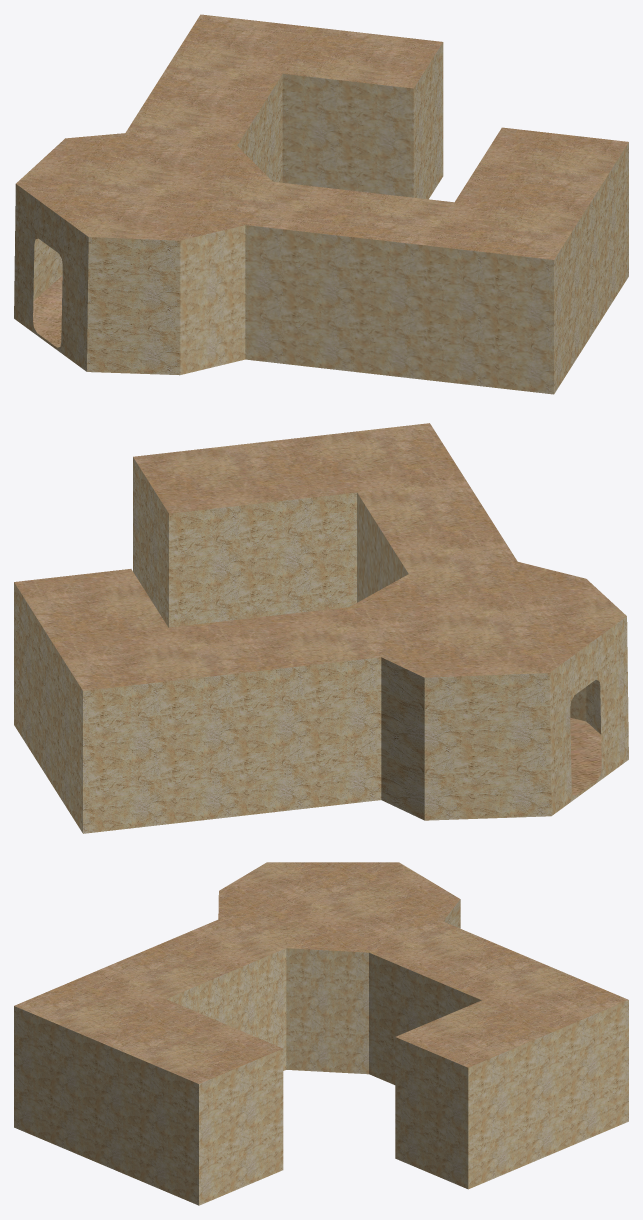
Rendered from thm_tato_imprv_building_s11_r1_foyer_mesh_l0.fbx.
The picture shows the model from 3 angles, top to bottom: view 1: azimuth 30°, elevation 25°; view 2: azimuth 150°, elevation 25°; view 3: azimuth 270°, elevation 25°; orthographic projection. The views are drawn at different scales.
Parts seen in each view (by area): view 1: mesh_node; view 2: mesh_node; view 3: mesh_node.
Boxes of the visible parts, box(x1,y1,x2,y2) form: mesh_node: box(14, 14, 628, 394); mesh_node: box(14, 423, 628, 833); mesh_node: box(14, 862, 628, 1205).
Bounding box in the file's own units: 17.61 × 4.49 × 20.55.
